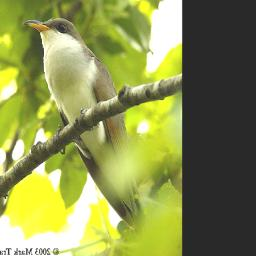Cuckoo: (23, 16, 149, 236)
